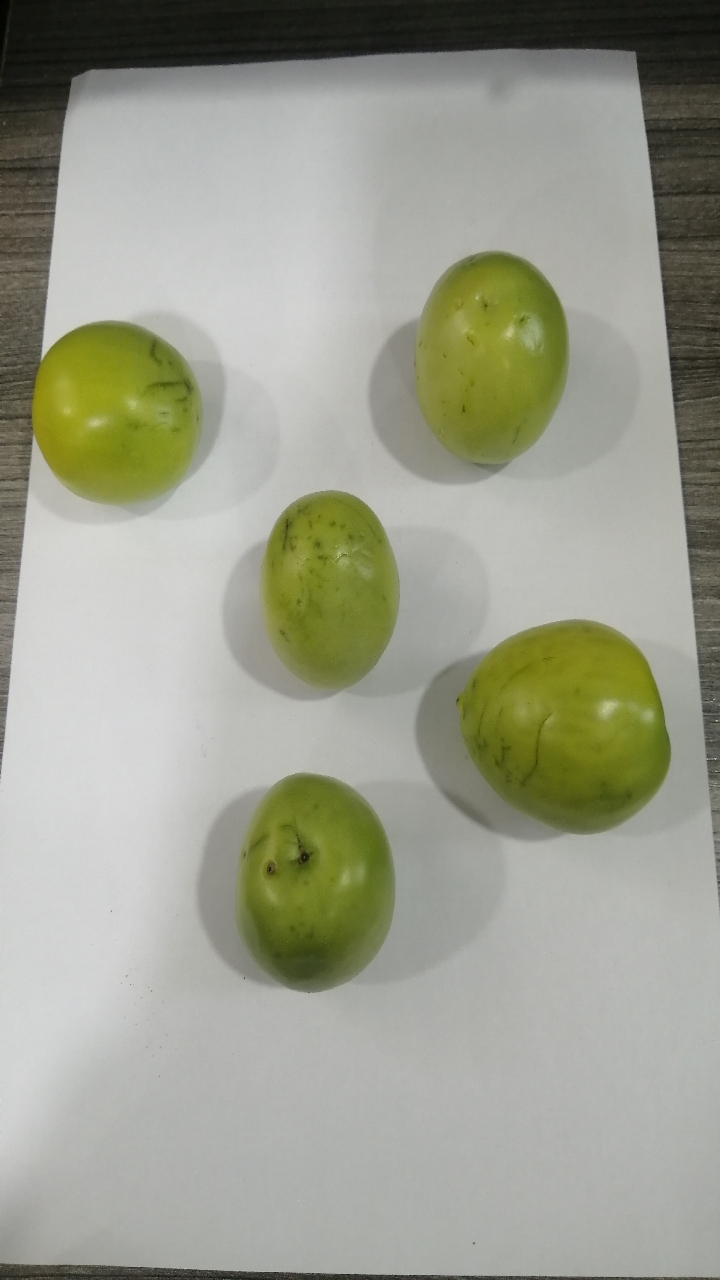tomateVerde: (443, 600, 684, 840), (214, 746, 423, 1014), (398, 228, 598, 475), (15, 297, 217, 525), (251, 465, 420, 708)
